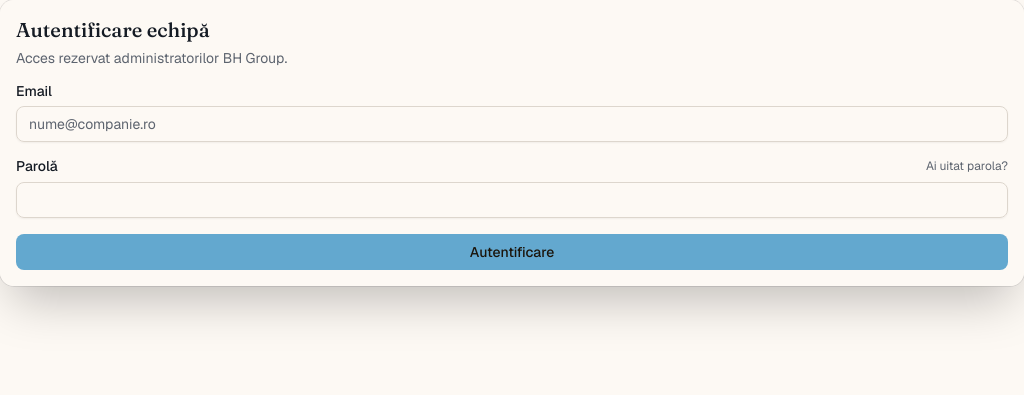
LoginForm › shows validation errors and does not submit when the form is empty
What coordinates should you click on to do the following:
click the button "Autentificare"
I would click on:
 (512, 252)
Its box is [16,234,1008,270].
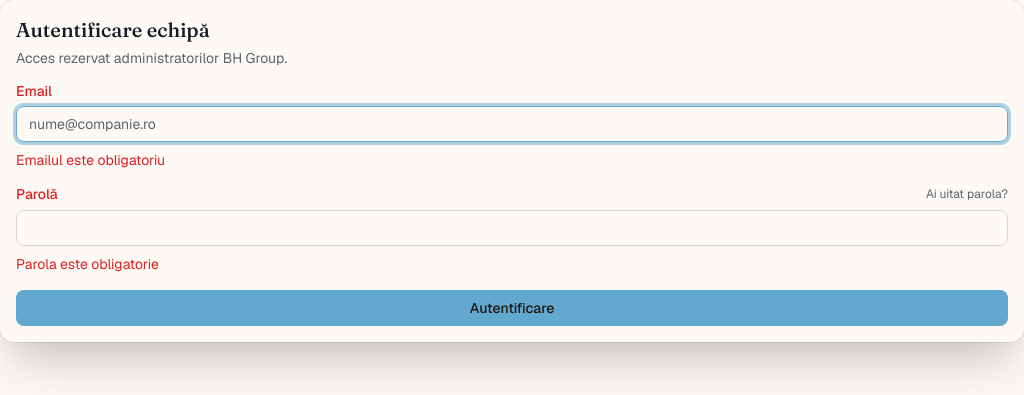
Result: the text "Emailul este obligatoriu" is shown at [16,151,165,169]
Result: the text "Parola este obligatorie" is shown at [16,255,159,273]
